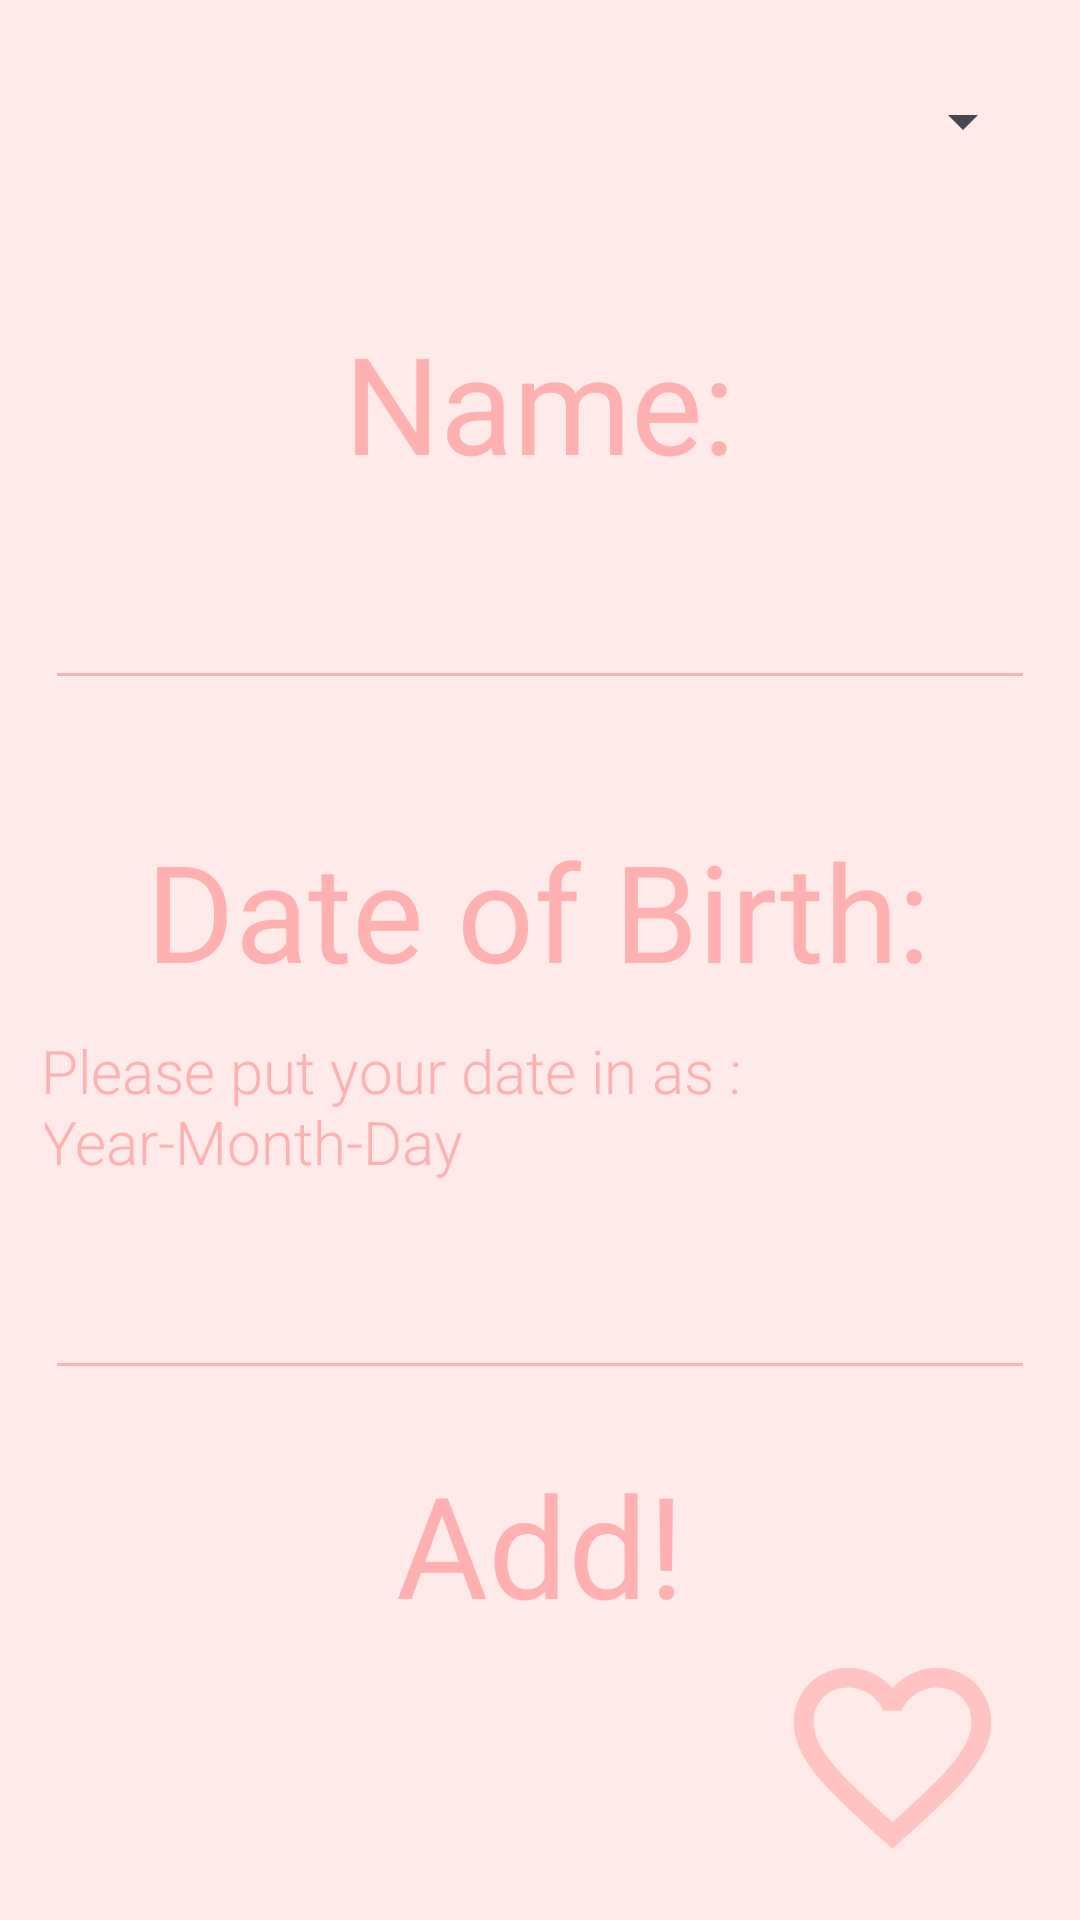

Screen size 1080w x 1920h. Icon name, then its center in pixels as (x,y):
heart: (892,1758)
